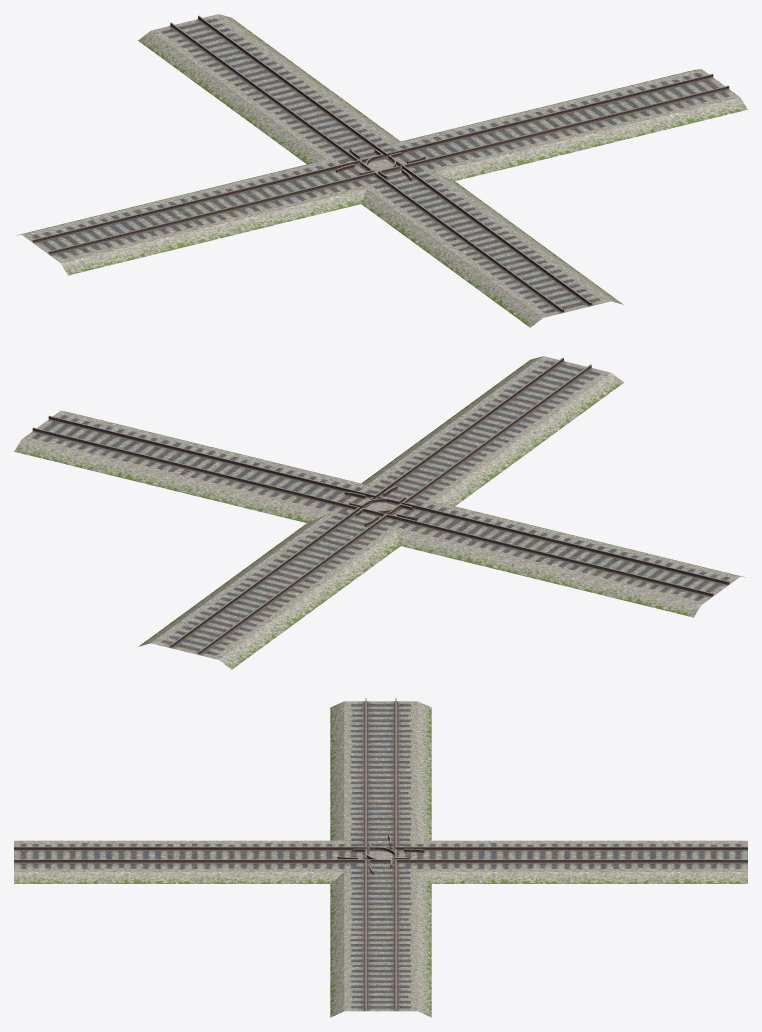
The model's file is Tr_FCrossing1.fbx.
3 renders of one model, top to bottom at view 1: azimuth 30°, elevation 25°; view 2: azimuth 150°, elevation 25°; view 3: azimuth 270°, elevation 25°, orthographic. The views are drawn at different scales.
Visible parts, largest first — view 1: U3DMesh; view 2: U3DMesh; view 3: U3DMesh.
Part boxes in pixels (x1,y1,x2,y2): U3DMesh: (17,14,747,327); U3DMesh: (14,356,744,669); U3DMesh: (14,698,747,1017).
Bounding box in the file's own units: 32 × 0.4524 × 32.
